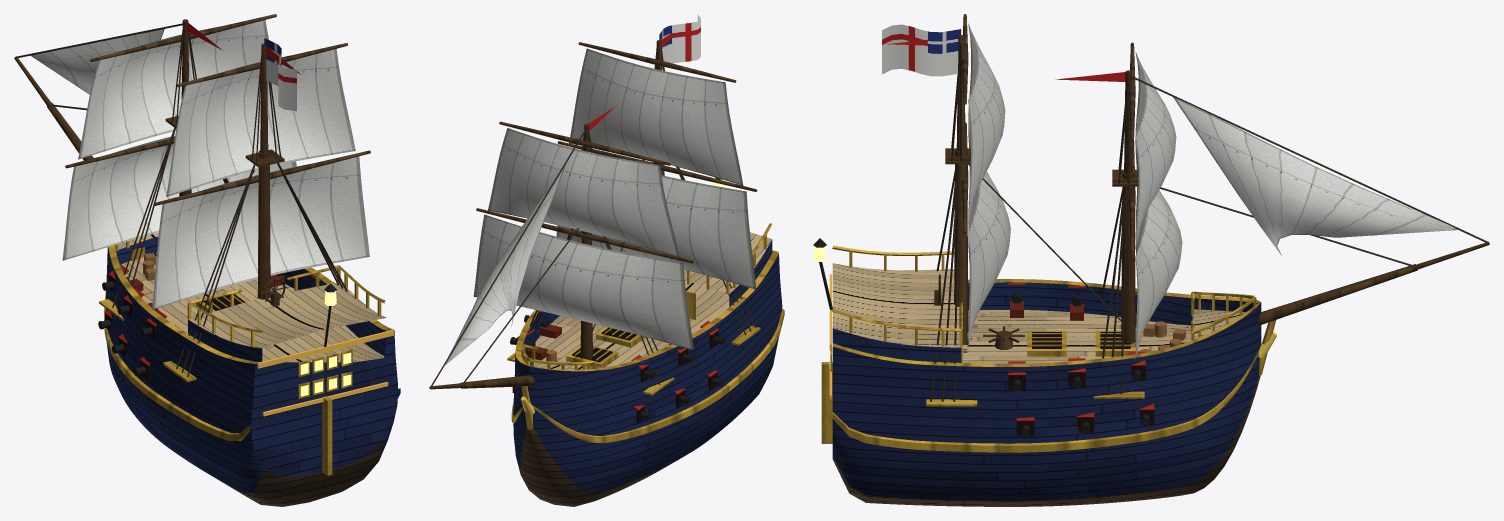
The model's file is navy_galleon.glb.
3 views of the same model, side by side, from view 1: azimuth 30°, elevation 25°; view 2: azimuth 150°, elevation 25°; view 3: azimuth 270°, elevation 25° (orthographic). The views are drawn at different scales.
Parts seen in each view (by area): view 1: Hull, Sail1_0, Sail1_1, Rigging, Sail0_1, Sail0_0, Jib, Flag, Guns0; view 2: Hull, Sail0_0, Sail1_1, Sail0_1, Sail1_0, Rigging, Jib, Flag, Guns0; view 3: Hull, Rigging, Jib, Sail0_0, Sail1_0, Sail0_1, Sail1_1, Flag, Guns0.
Boxes of the visible parts, bbox=[...] form: Hull: bbox=[99, 232, 400, 506]; Sail1_0: bbox=[152, 156, 369, 309]; Sail1_1: bbox=[166, 49, 355, 196]; Rigging: bbox=[14, 14, 370, 376]; Sail0_1: bbox=[78, 20, 268, 159]; Sail0_0: bbox=[62, 135, 296, 260]; Jib: bbox=[31, 29, 164, 94]; Flag: bbox=[264, 38, 296, 111]; Guns0: bbox=[98, 273, 333, 375]; Hull: bbox=[507, 177, 784, 506]; Sail0_0: bbox=[473, 214, 693, 350]; Sail1_1: bbox=[569, 48, 743, 185]; Sail0_1: bbox=[488, 128, 679, 257]; Sail1_0: bbox=[556, 175, 756, 289]; Rigging: bbox=[429, 33, 757, 389]; Jib: bbox=[445, 164, 565, 364]; Flag: bbox=[659, 14, 700, 68]; Guns0: bbox=[510, 315, 724, 419]; Hull: bbox=[813, 238, 1277, 506]; Rigging: bbox=[887, 14, 1489, 401]; Jib: bbox=[1173, 97, 1458, 255]; Sail0_0: bbox=[1135, 186, 1182, 359]; Sail1_0: bbox=[968, 166, 1010, 346]; Sail0_1: bbox=[1135, 52, 1176, 248]; Sail1_1: bbox=[968, 23, 1005, 223]; Flag: bbox=[882, 24, 961, 76]; Guns0: bbox=[1010, 293, 1150, 437].
Size of the model in its own units: 1.47 by 2.54 by 3.39.
Materials: 20 (8 with a texture image).
